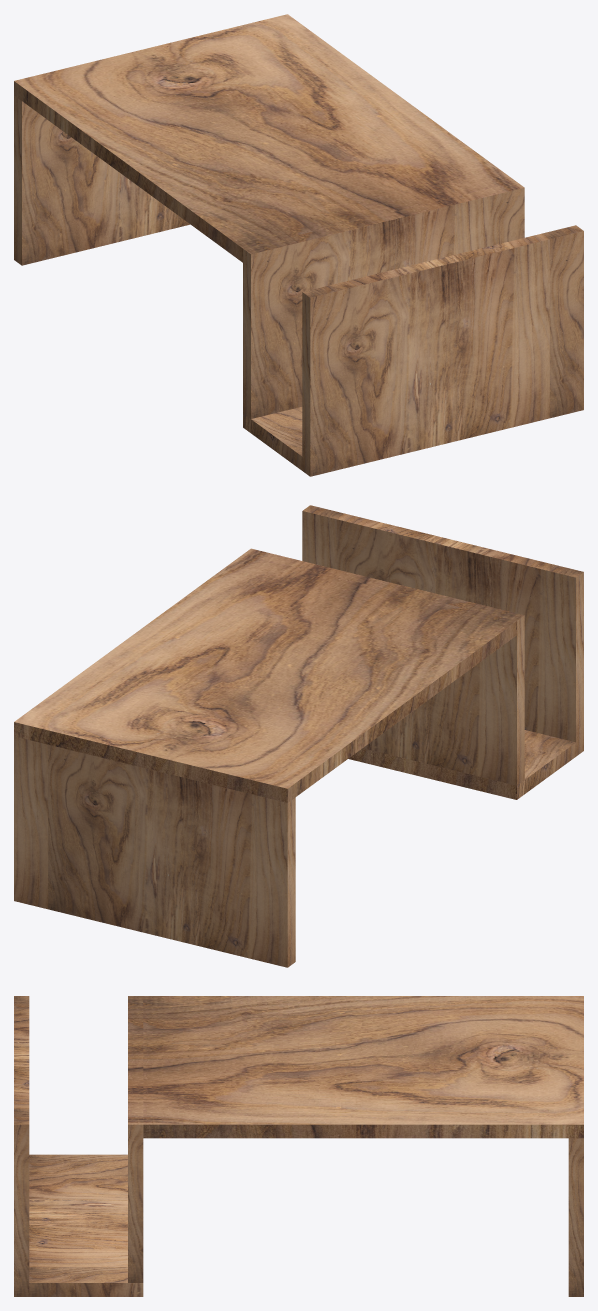
Rendered from table3d-1.glb.
The picture shows the model from 3 angles, top to bottom: view 1: azimuth 30°, elevation 25°; view 2: azimuth 150°, elevation 25°; view 3: azimuth 270°, elevation 25°; orthographic projection. The views are drawn at different scales.
Bounding box in the file's own units: 0.8 × 0.5 × 1.5.
Materials: 2 (2 with a texture image).
